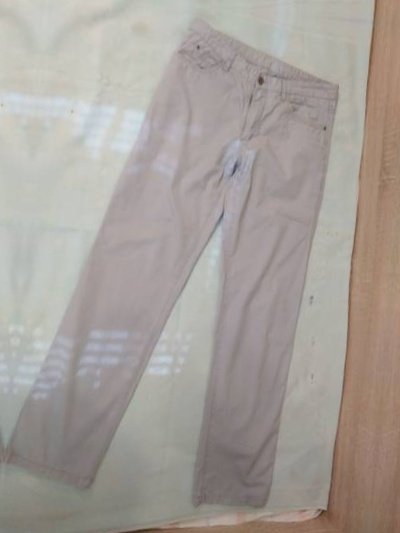Pants: (16, 5, 361, 533), (0, 0, 29, 508), (66, 0, 400, 9)
